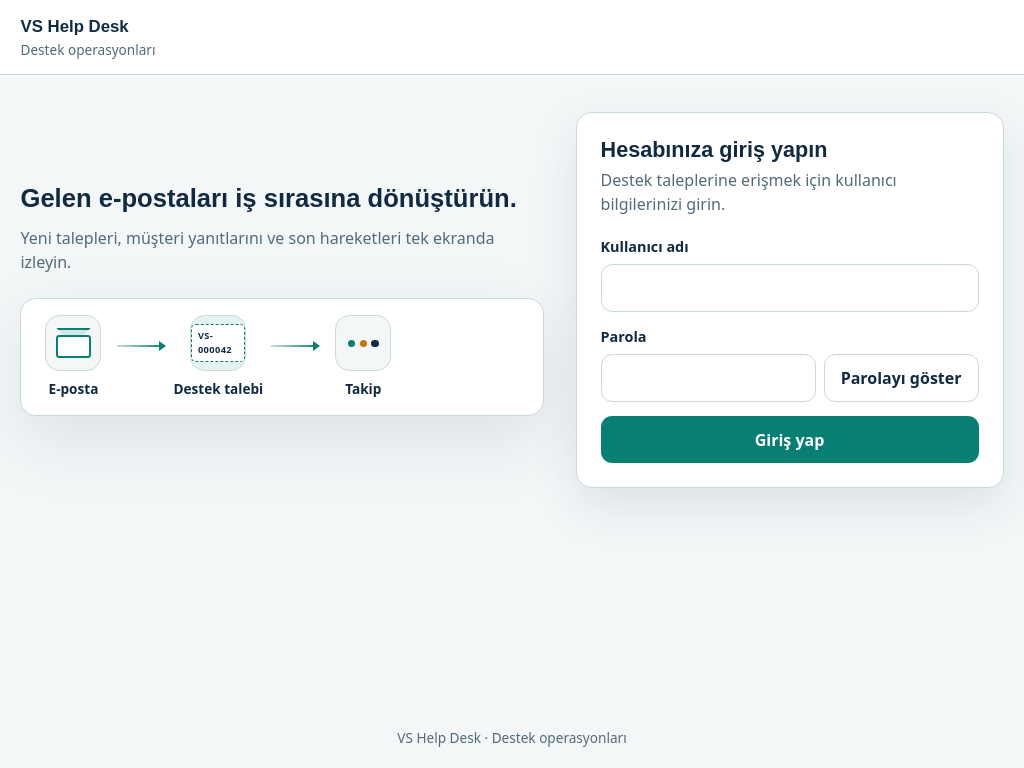
Test: LoginPage › uses Turkish network and server failure copy
Step 1. Type "support" into the field labelled "Kullanıcı adı" → (790, 288), box left=600, top=264, right=978, bottom=312
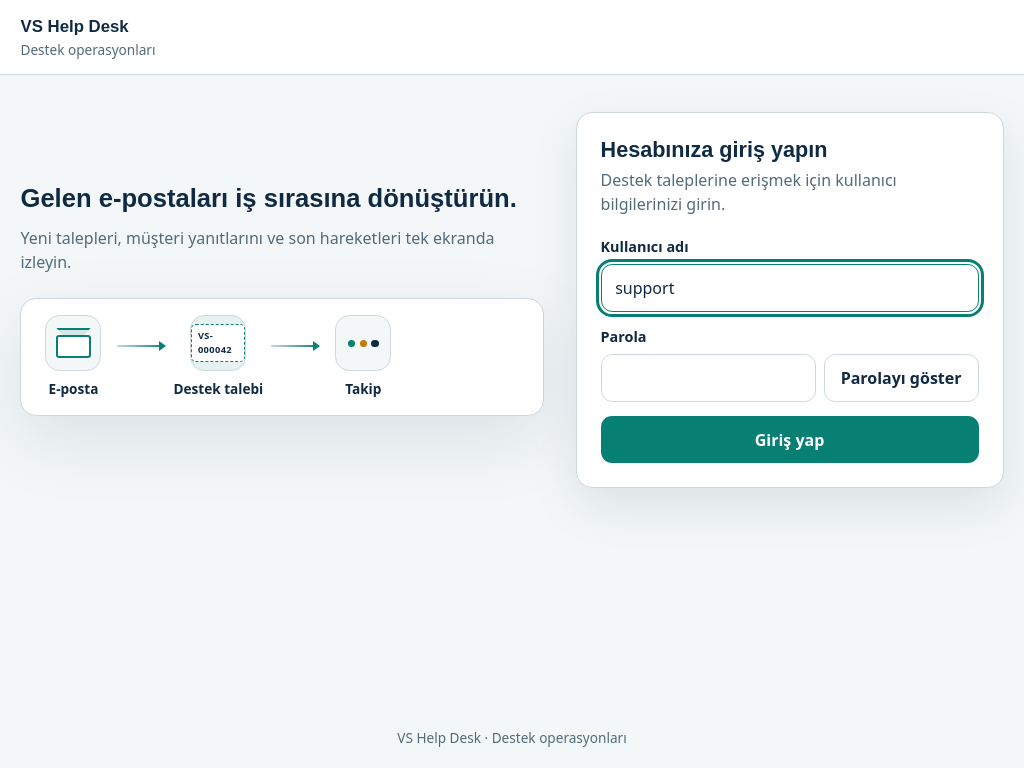
Step 2. Type "secret" into the password field labelled "Parola" → (708, 378), box left=600, top=354, right=816, bottom=402
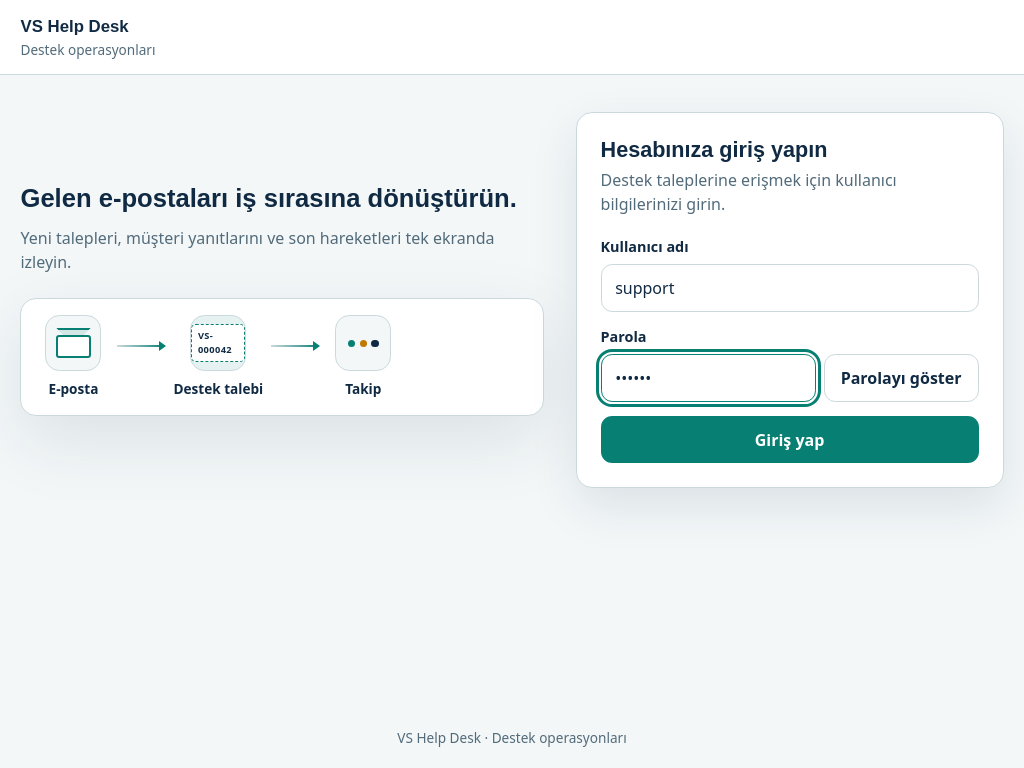
Step 3. Click the button "Giriş yap" → (790, 440), box left=600, top=416, right=978, bottom=463
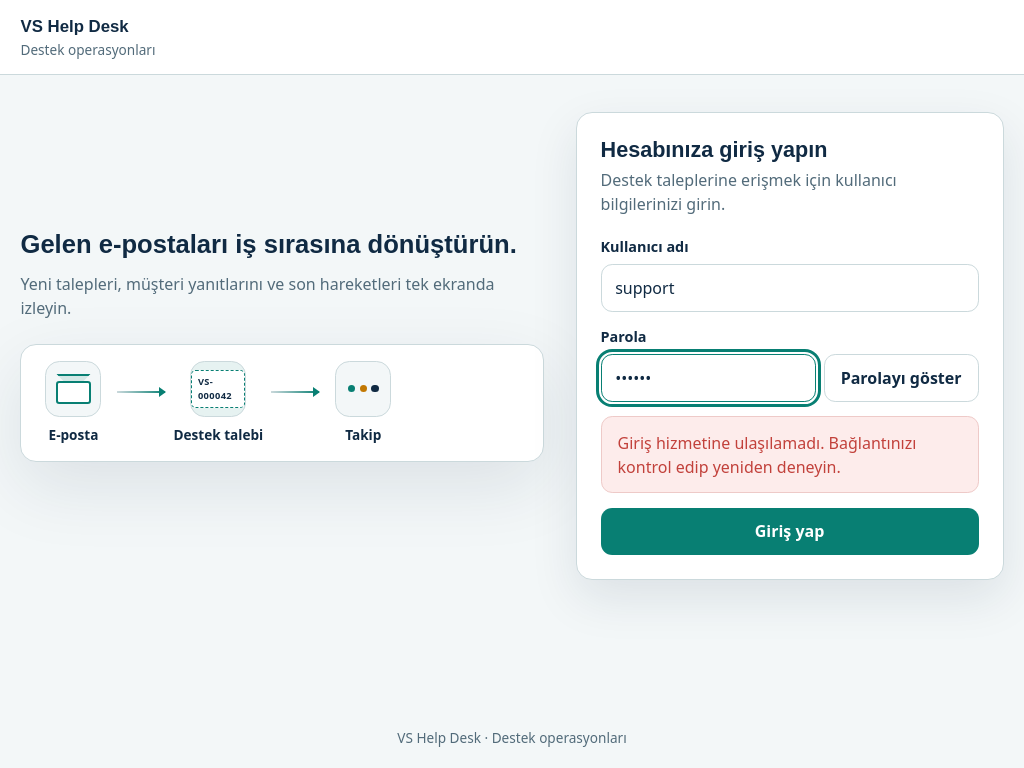
expect the message reads "Giriş hizmetine ulaşılamadı. Bağlantınızı kontrol edip yeniden deneyin.": met, box left=618, top=432, right=916, bottom=478
Step 4. Click the button "Giriş yap" → (790, 531), box left=600, top=508, right=978, bottom=555
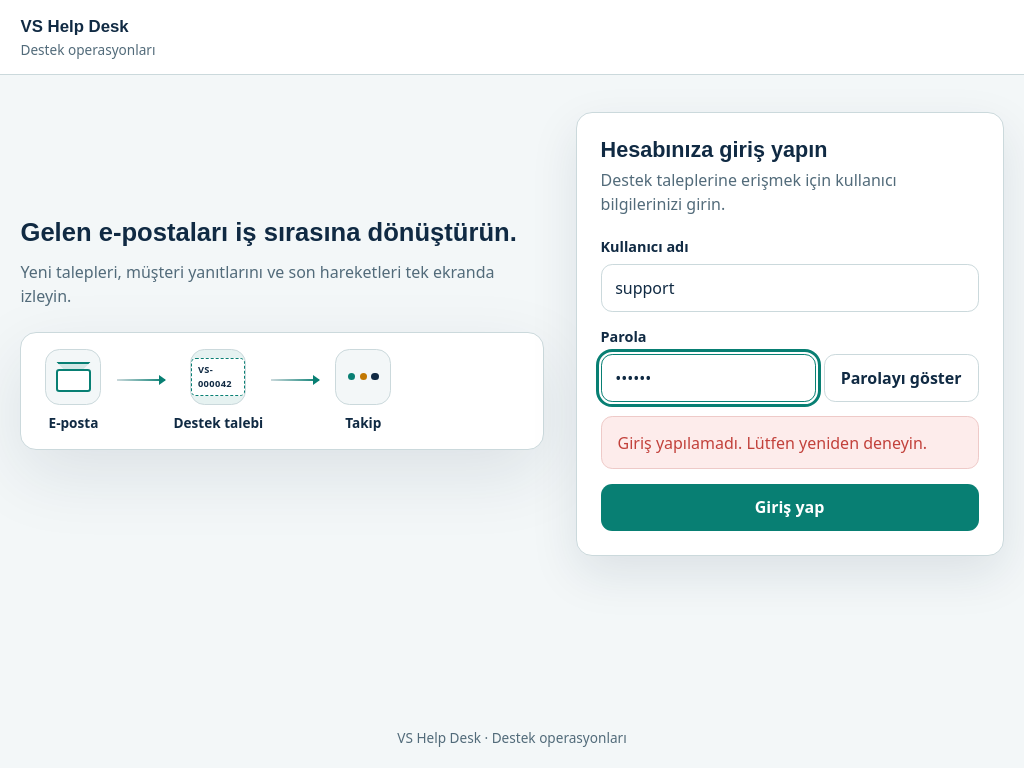
expect the message reads "Giriş yapılamadı. Lütfen yeniden deneyin.": met, box left=618, top=432, right=927, bottom=454
